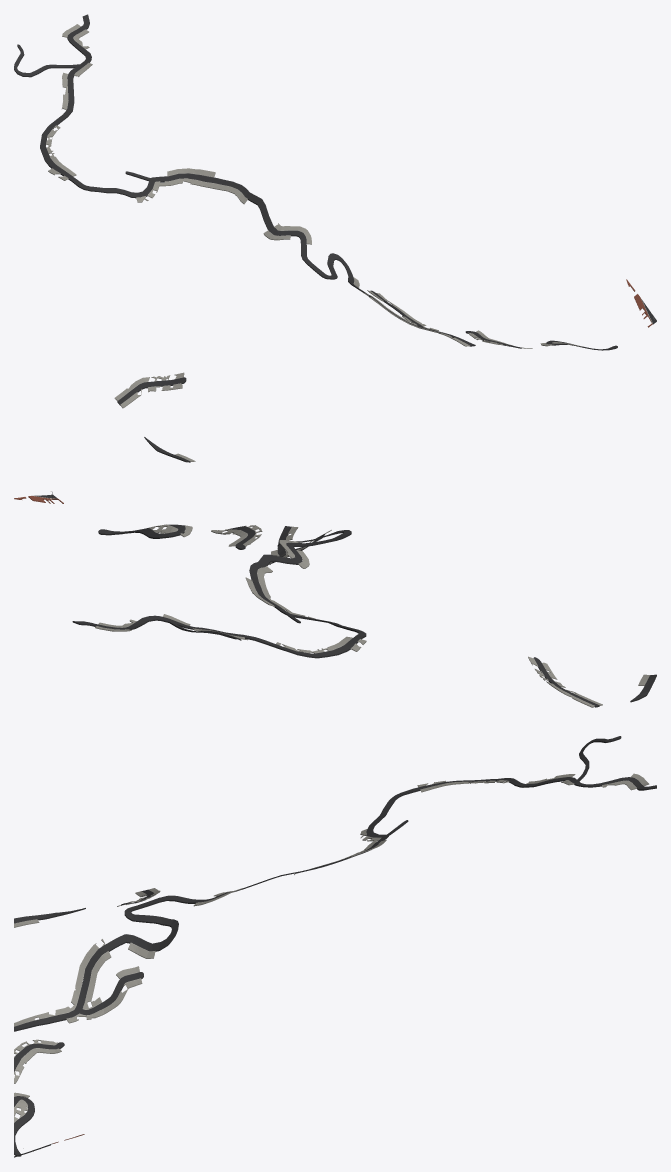
3 renders of one model, top to bottom at view 1: azimuth 30°, elevation 25°; view 2: azimuth 150°, elevation 25°; view 3: azimuth 270°, elevation 25°, orthographic. The views are drawn at different scales.
Bounding box in the file's own units: 587 × 239 × 583.
